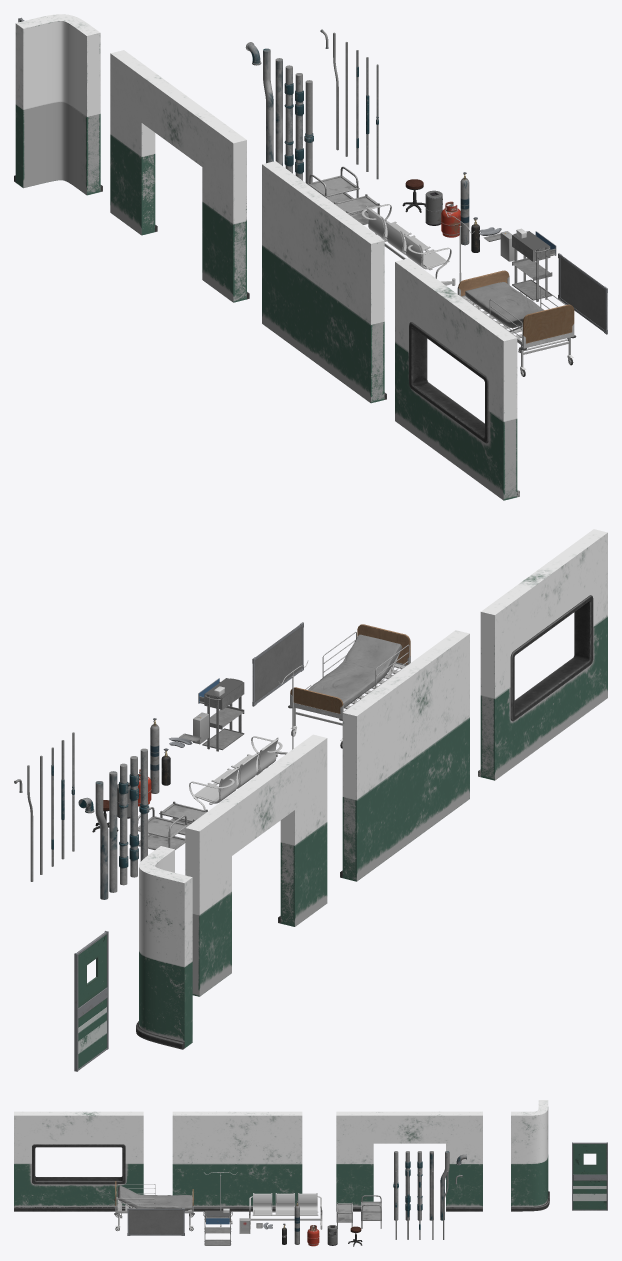
File: AssetsPackHospital.fbx
The picture shows the model from 3 angles, top to bottom: view 1: azimuth 30°, elevation 25°; view 2: azimuth 150°, elevation 25°; view 3: azimuth 270°, elevation 25°; orthographic projection. The views are drawn at different scales.
Parts seen in each view (by area): view 1: SM_Wall4.005, SM_Wall3.010, SM_Wall5.013, SM_WallCorner1.005, SM_Couch, SM_Desk, SM_Locker, SM_Chair1, SM_PipeBig5, SM_PipeBig3, SM_PipeBig2, SM_PipeBig4 (+4 smaller); view 2: SM_Wall4.005, SM_Wall3.010, SM_Wall5.013, SM_WallCorner1.005, SM_Couch, SM_Door.001, SM_Desk, SM_Locker, SM_Chair1, SM_PipeBig4, SM_PipeBig5, SM_PipeBig2 (+3 smaller); view 3: SM_Wall4.005, SM_Wall3.010, SM_Wall5.013, SM_WallCorner1.005, SM_Door.001, SM_Chair1, SM_Desk, SM_Couch, SM_Locker, SM_Shelf2, SM_PipeBig3, SM_PipeBig4 (+7 smaller).
Part boxes in pixels (bbox=[...]): SM_Wall4.005: bbox=[262, 161, 386, 403]; SM_Wall3.010: bbox=[395, 258, 519, 500]; SM_Wall5.013: bbox=[110, 50, 249, 302]; SM_WallCorner1.005: bbox=[14, 14, 102, 195]; SM_Couch: bbox=[457, 270, 576, 376]; SM_Desk: bbox=[558, 253, 607, 334]; SM_Locker: bbox=[512, 231, 556, 301]; SM_Chair1: bbox=[361, 204, 455, 285]; SM_PipeBig5: bbox=[263, 48, 273, 163]; SM_PipeBig3: bbox=[284, 65, 293, 173]; SM_PipeBig2: bbox=[295, 73, 303, 180]; SM_PipeBig4: bbox=[275, 58, 282, 165]; SM_Wall4.005: bbox=[340, 630, 469, 881]; SM_Wall3.010: bbox=[478, 529, 607, 780]; SM_Wall5.013: bbox=[185, 734, 327, 996]; SM_WallCorner1.005: bbox=[136, 846, 192, 1049]; SM_Couch: bbox=[288, 624, 410, 748]; SM_Door.001: bbox=[74, 931, 108, 1071]; SM_Desk: bbox=[252, 622, 303, 706]; SM_Locker: bbox=[198, 678, 244, 751]; SM_Chair1: bbox=[189, 736, 282, 810]; SM_PipeBig4: bbox=[109, 771, 117, 892]; SM_PipeBig5: bbox=[95, 781, 108, 899]; SM_PipeBig2: bbox=[129, 756, 138, 877]; SM_Wall4.005: bbox=[172, 1111, 302, 1211]; SM_Wall3.010: bbox=[14, 1111, 143, 1211]; SM_Wall5.013: bbox=[336, 1111, 482, 1211]; SM_WallCorner1.005: bbox=[511, 1100, 549, 1211]; SM_Door.001: bbox=[572, 1142, 607, 1210]; SM_Chair1: bbox=[249, 1193, 322, 1229]; SM_Desk: bbox=[127, 1208, 184, 1235]; SM_Couch: bbox=[114, 1181, 194, 1231]; SM_Locker: bbox=[203, 1210, 232, 1245]; SM_Shelf2: bbox=[361, 1201, 381, 1220]; SM_PipeBig3: bbox=[417, 1151, 422, 1220]; SM_PipeBig4: bbox=[429, 1151, 433, 1220].
Size of the model in its own units: 4.36 by 2.62 by 14.82.
